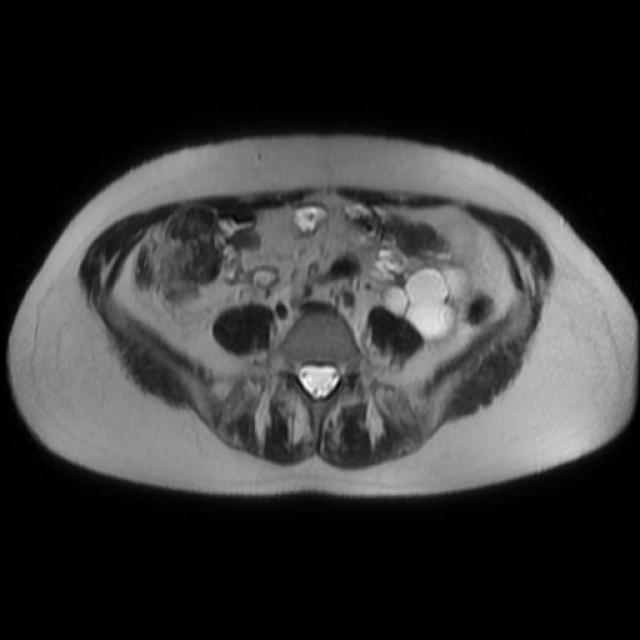sol: (379, 261, 477, 339)
